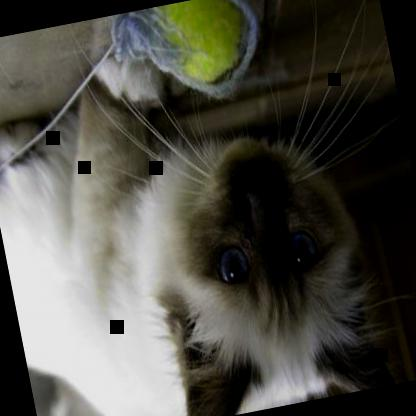cat: (0, 13, 402, 415)
